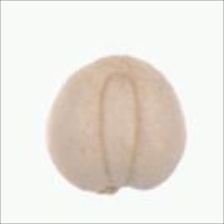L5: (98, 72, 144, 183), (85, 178, 156, 199)
L6: (44, 53, 189, 199)
